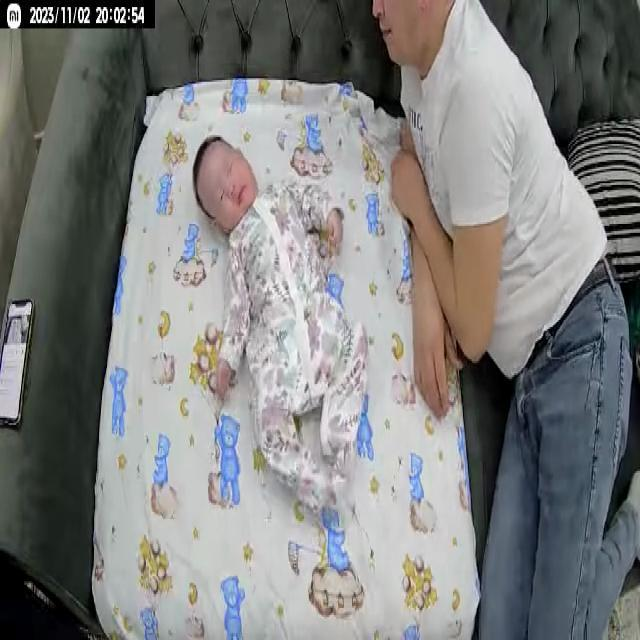baby: (190, 132, 372, 530)
